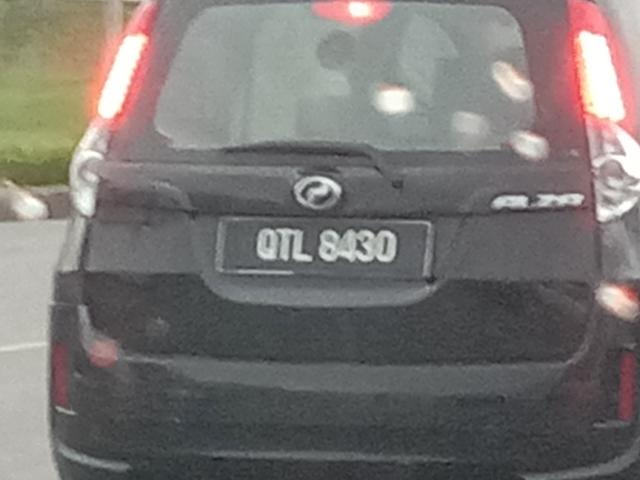License_Plate: (217, 217, 434, 284)
car: (41, 3, 640, 478)
